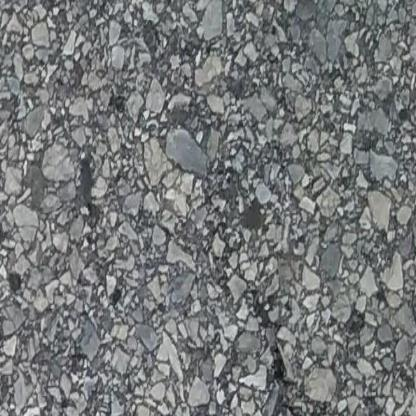Cracks: (232, 269, 361, 416)
